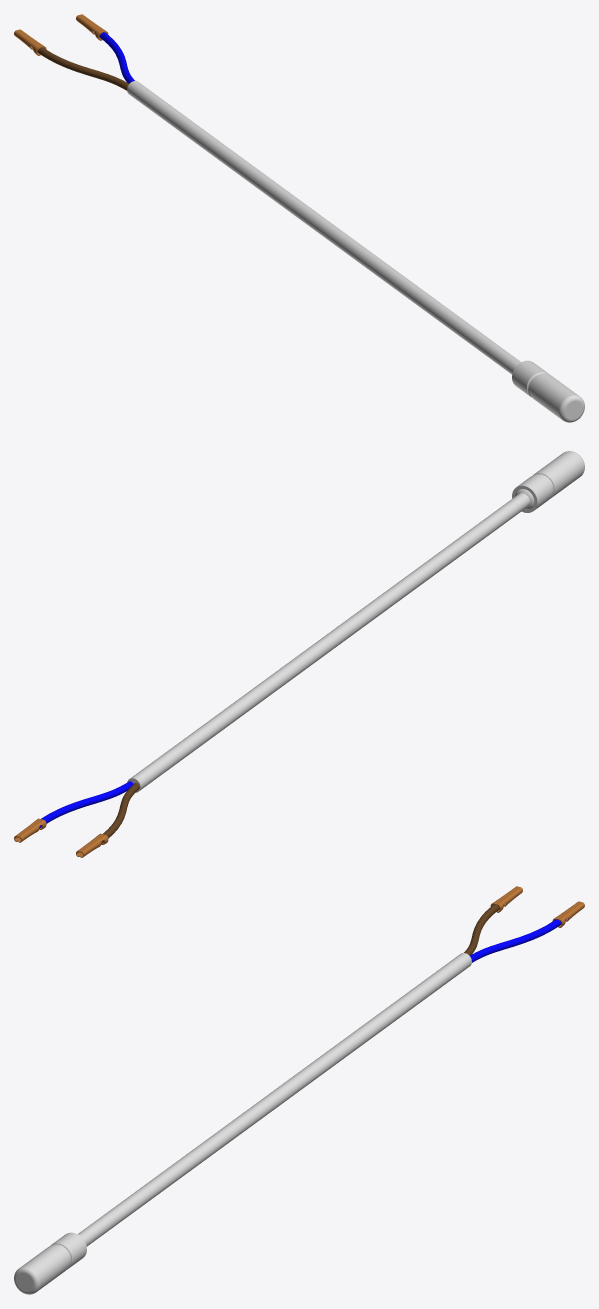
File: NPNA.gltf
3 views of the same model, one above another, from view 1: azimuth 30°, elevation 25°; view 2: azimuth 150°, elevation 25°; view 3: azimuth 330°, elevation 25° (orthographic).
Parts seen in each view (by area): view 1: brep_7, brep_2, brep_3; view 2: brep_7, brep_2, brep_5; view 3: brep_7, brep_2, brep_5.
Part boxes in pixels (bbox=[...]): brep_7: bbox=[127, 81, 520, 374]; brep_2: bbox=[512, 360, 584, 422]; brep_3: bbox=[32, 46, 128, 90]; brep_7: bbox=[127, 493, 529, 792]; brep_2: bbox=[512, 451, 584, 512]; brep_5: bbox=[39, 781, 133, 828]; brep_7: bbox=[78, 953, 471, 1246]; brep_2: bbox=[14, 1232, 86, 1294]; brep_5: bbox=[470, 918, 566, 962].
Size of the model in its own units: 0.1689 by 0.06 by 2.13.
